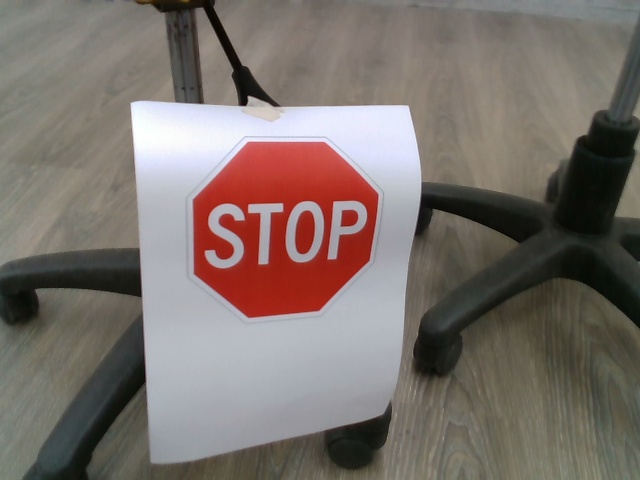stop: (183, 134, 384, 324)
